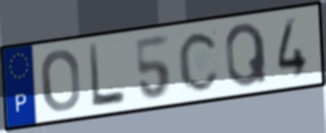4: (276, 16, 310, 78)
5: (133, 31, 173, 101)
C: (176, 29, 221, 94)
L: (86, 42, 128, 111)
O: (38, 48, 82, 115)
Q: (223, 20, 270, 89)
